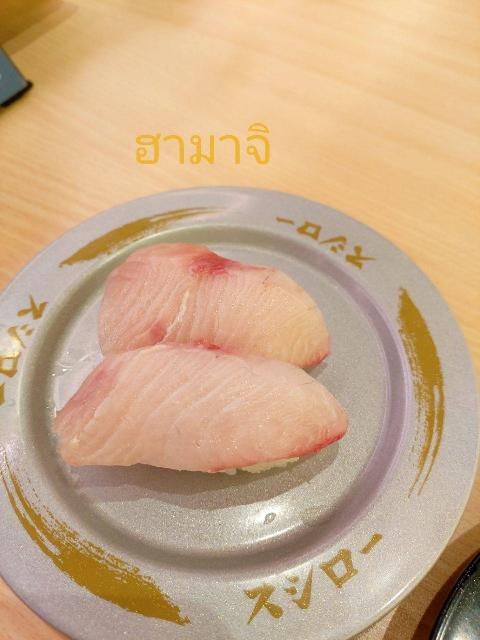janwhite: (3, 206, 434, 627)
